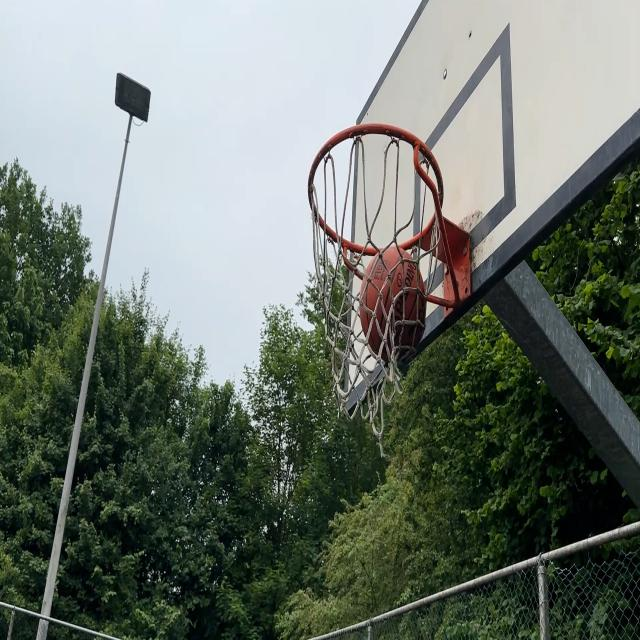Goal: (361, 248, 426, 360)
